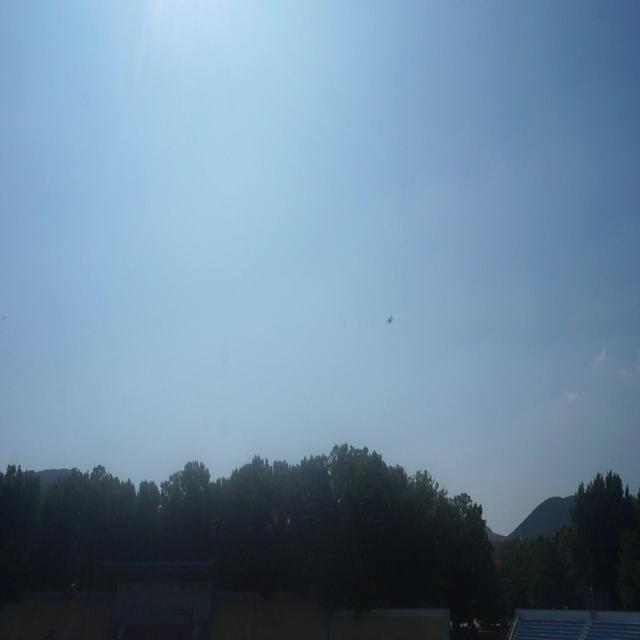drone: (384, 310, 396, 330)
